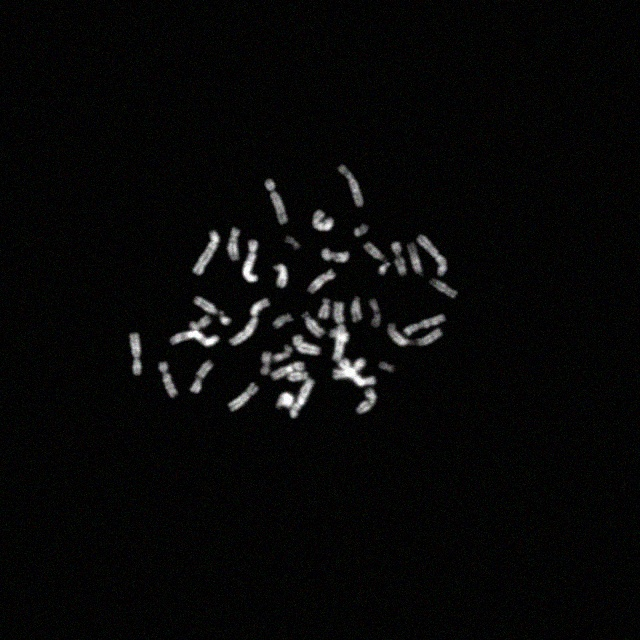chromosome: (229, 298, 271, 344), (387, 324, 443, 346), (418, 235, 448, 275), (194, 229, 220, 275), (265, 178, 287, 224), (339, 164, 363, 206), (340, 360, 376, 386), (290, 379, 314, 418), (404, 314, 446, 336), (228, 383, 258, 411), (171, 329, 219, 346), (242, 240, 260, 282), (190, 361, 212, 394), (308, 270, 336, 294), (334, 357, 364, 379), (430, 278, 458, 300), (271, 363, 305, 381), (159, 363, 177, 397), (302, 312, 324, 338), (356, 389, 376, 415), (294, 335, 320, 355), (406, 242, 422, 274), (129, 333, 141, 375), (392, 242, 406, 276), (312, 210, 333, 230), (195, 296, 218, 314), (227, 228, 239, 260), (334, 324, 344, 362), (272, 343, 292, 362), (322, 249, 348, 263), (364, 243, 384, 260), (273, 264, 287, 288), (370, 298, 380, 328), (276, 391, 294, 407), (274, 313, 292, 329), (190, 316, 210, 330), (352, 296, 362, 322), (319, 298, 331, 318), (329, 328, 349, 339), (261, 352, 271, 374), (334, 302, 344, 322), (220, 310, 232, 326), (286, 237, 300, 250), (288, 372, 308, 381), (379, 362, 395, 372), (355, 225, 367, 238), (378, 262, 390, 274)
